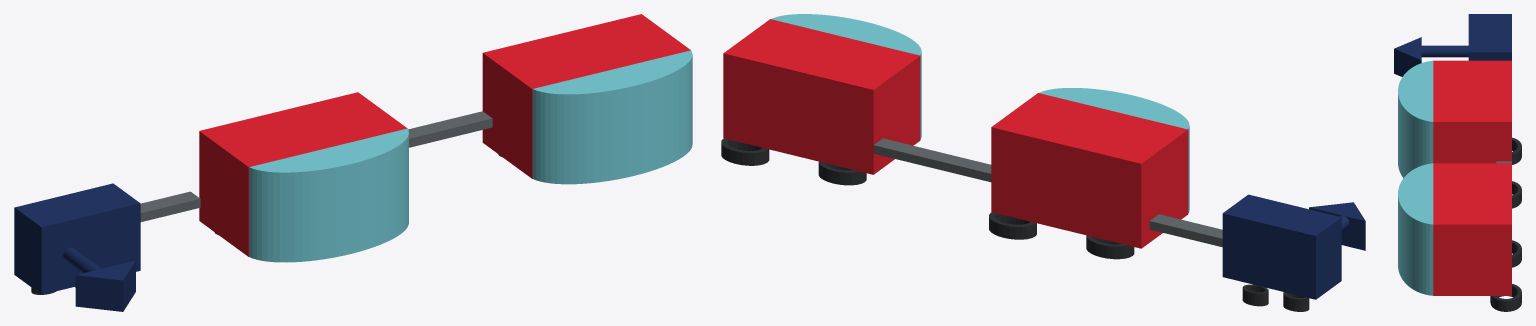
File: tinker.obj
The picture shows the model from 3 angles, left to right: view 1: azimuth 30°, elevation 25°; view 2: azimuth 150°, elevation 25°; view 3: azimuth 270°, elevation 25°; orthographic projection. The views are drawn at different scales.
Visible parts, largest first — view 1: group_0_7720667, group_0_15277357, group_0_1650274, group_0_6383466; view 2: group_0_15277357, group_0_1650274, group_0_7720667, group_0_2829873, group_0_6383466; view 3: group_0_15277357, group_0_7720667, group_0_1650274, group_0_2829873.
Boxes of the visible parts, box(x1,y1,x2,y2) form: group_0_7720667: box(249, 50, 692, 262); group_0_15277357: box(199, 14, 691, 256); group_0_1650274: box(14, 183, 140, 311); group_0_6383466: box(140, 111, 492, 221); group_0_15277357: box(723, 19, 1188, 248); group_0_1650274: box(1222, 194, 1365, 299); group_0_7720667: box(771, 14, 1189, 212); group_0_2829873: box(721, 138, 1309, 311); group_0_6383466: box(873, 138, 1222, 247); group_0_15277357: box(1433, 60, 1511, 295); group_0_7720667: box(1398, 60, 1433, 295); group_0_1650274: box(1394, 14, 1511, 76); group_0_2829873: box(1490, 137, 1521, 311).
Bounding box in the file's own units: 147 × 29 × 32.5.
